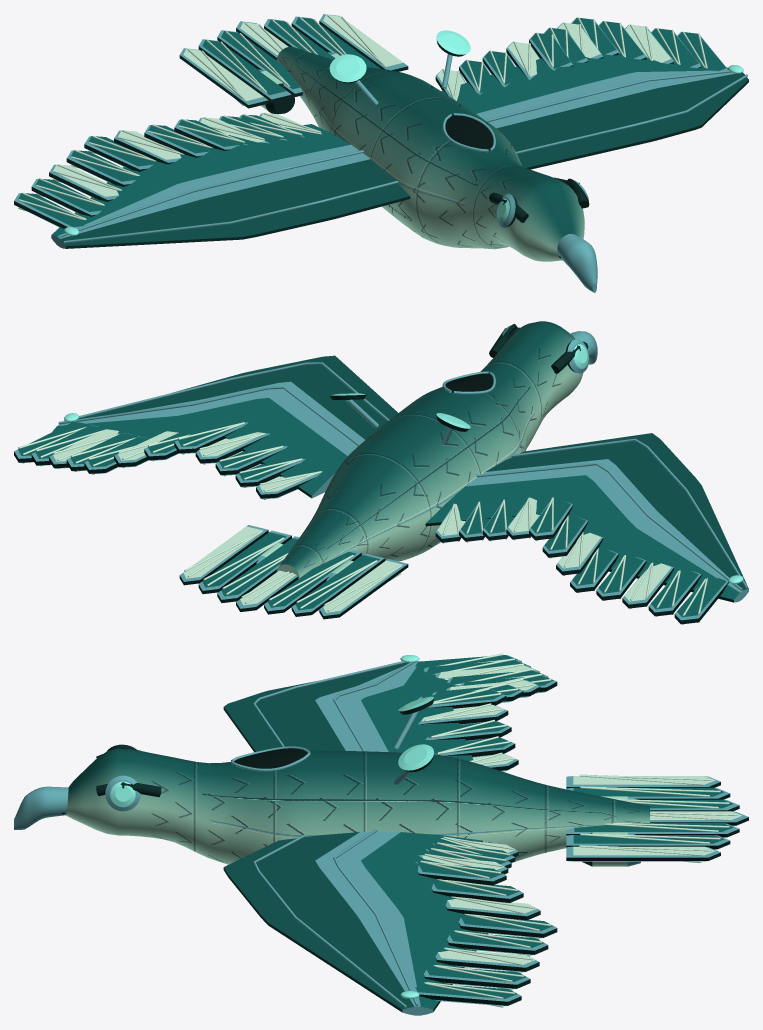
3 renders of one model, top to bottom at view 1: azimuth 30°, elevation 25°; view 2: azimuth 150°, elevation 25°; view 3: azimuth 270°, elevation 25°, orthographic. The views are drawn at different scales.
Parts seen in each view (by area): view 1: osprey_hull; view 2: osprey_hull; view 3: osprey_hull.
Boxes of the visible parts, x1,y1,x2,y2 form: osprey_hull: (14, 14, 748, 292); osprey_hull: (14, 321, 748, 624); osprey_hull: (14, 653, 748, 1015).
Size of the model in its own units: 68 by 14.37 by 60.96.
Materials: 1 (1 with a texture image).
